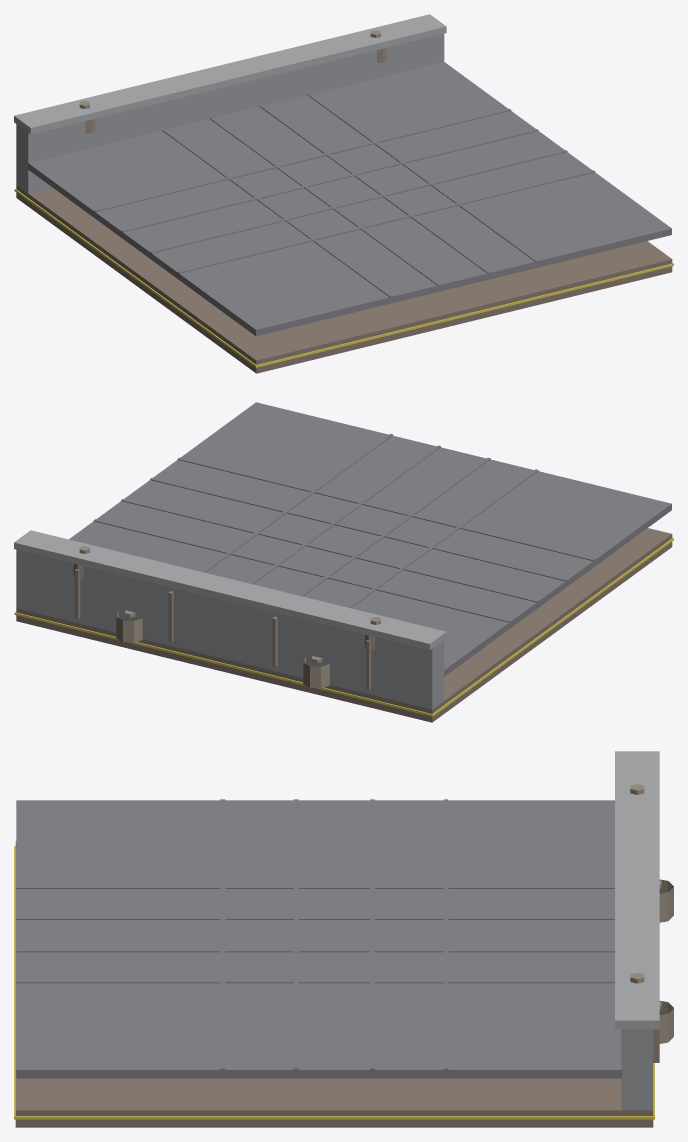
The model's file is conveyor_two_turn_flat.glb.
The picture shows the model from 3 angles, top to bottom: view 1: azimuth 30°, elevation 25°; view 2: azimuth 150°, elevation 25°; view 3: azimuth 270°, elevation 25°; orthographic projection. The views are drawn at different scales.
Visible parts, largest first — view 1: BeltSurface, BasePlate, Wall_front, WallCap_front, HazardStripe, BeltGroove_x0, BeltGroove_x2, BeltGroove_x1, BeltGroove_x3, BeltGroove_y0, BeltGroove_y2, BeltGroove_y1 (+1 smaller); view 2: BeltSurface, Wall_front, BasePlate, WallCap_front, HazardStripe, BeltGroove_x1, BeltGroove_x2, BeltGroove_x0, BeltGroove_x3, BeltGroove_y3, BeltGroove_y0, BeltGroove_y1 (+3 smaller); view 3: BeltSurface, BasePlate, WallCap_front, HazardStripe, Wall_front, BeltGroove_y2, BeltGroove_y3, BeltGroove_y1, BeltGroove_y0, BeltGroove_x0, BeltGroove_x3, BeltGroove_x1 (+3 smaller).
Boxes of the visible parts, x1,y1,x2,y2 form: BeltSurface: [28, 62, 671, 336]; BasePlate: [16, 185, 672, 373]; Wall_front: [16, 34, 444, 193]; WallCap_front: [14, 14, 446, 134]; HazardStripe: [14, 189, 673, 367]; BeltGroove_x0: [177, 170, 595, 273]; BeltGroove_x2: [121, 129, 538, 232]; BeltGroove_x1: [150, 150, 567, 253]; BeltGroove_x3: [93, 108, 511, 211]; BeltGroove_y0: [162, 129, 393, 297]; BeltGroove_y2: [259, 105, 490, 273]; BeltGroove_y1: [209, 117, 440, 285]; BeltSurface: [69, 402, 671, 676]; Wall_front: [16, 549, 444, 709]; BasePlate: [16, 528, 672, 722]; WallCap_front: [14, 530, 446, 650]; HazardStripe: [14, 537, 673, 716]; BeltGroove_x1: [150, 478, 567, 581]; BeltGroove_x2: [121, 499, 538, 602]; BeltGroove_x0: [177, 457, 595, 561]; BeltGroove_x3: [93, 519, 510, 622]; BeltGroove_y3: [201, 433, 393, 572]; BeltGroove_y0: [347, 469, 538, 608]; BeltGroove_y1: [299, 457, 490, 596]; BeltSurface: [16, 800, 622, 1078]; BasePlate: [15, 841, 653, 1127]; WallCap_front: [615, 751, 659, 1029]; HazardStripe: [14, 846, 654, 1119]; Wall_front: [621, 1029, 653, 1110]; BeltGroove_y2: [15, 949, 614, 952]; BeltGroove_y3: [15, 980, 614, 983]; BeltGroove_y1: [15, 916, 614, 919]; BeltGroove_y0: [15, 886, 614, 888]; BeltGroove_x0: [220, 799, 225, 1069]; BeltGroove_x3: [443, 799, 448, 1069]; BeltGroove_x1: [293, 799, 298, 1069].
Size of the model in its own units: 1 by 0.1925 by 1.03.
